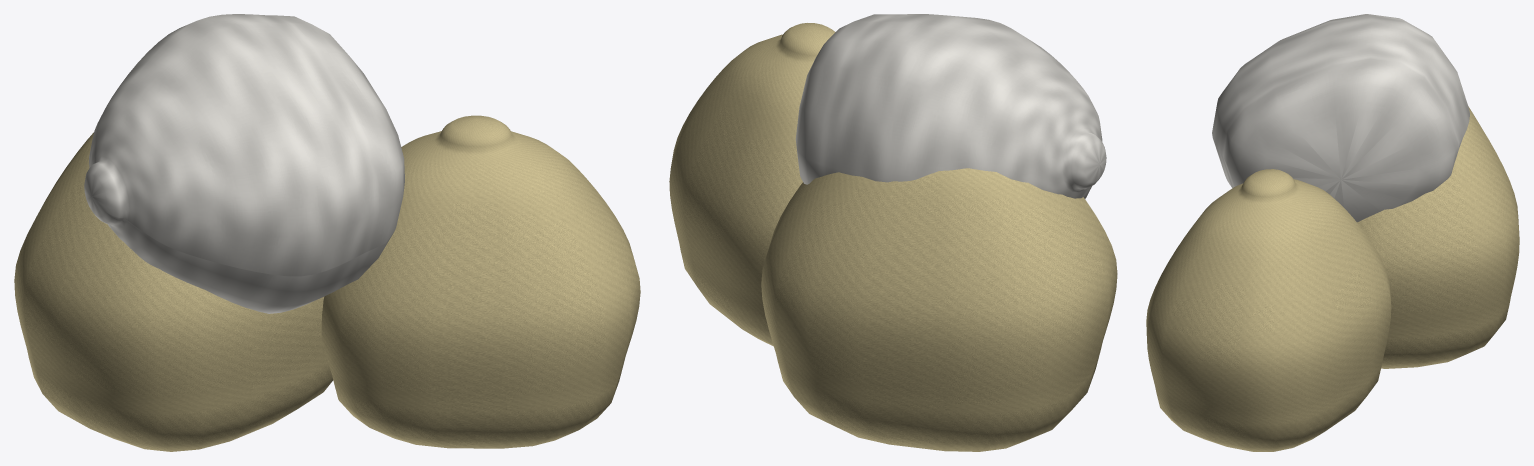
File: farm-and-working-animals-hd-feed-sacks-eb3fc385__29220.glb
3 renders of one model, left to right at view 1: azimuth 30°, elevation 25°; view 2: azimuth 150°, elevation 25°; view 3: azimuth 270°, elevation 25°, orthographic. The views are drawn at different scales.
Parts seen in each view (by area): view 1: feed-sacks; view 2: feed-sacks; view 3: feed-sacks.
Part boxes in pixels (left/top/right/bottom): feed-sacks: left=14, top=14, right=640, bottom=451; feed-sacks: left=669, top=14, right=1117, bottom=451; feed-sacks: left=1146, top=14, right=1519, bottom=451.
Size of the model in its own units: 1.07 by 0.8198 by 0.8268.
2 materials, 2 textured.
